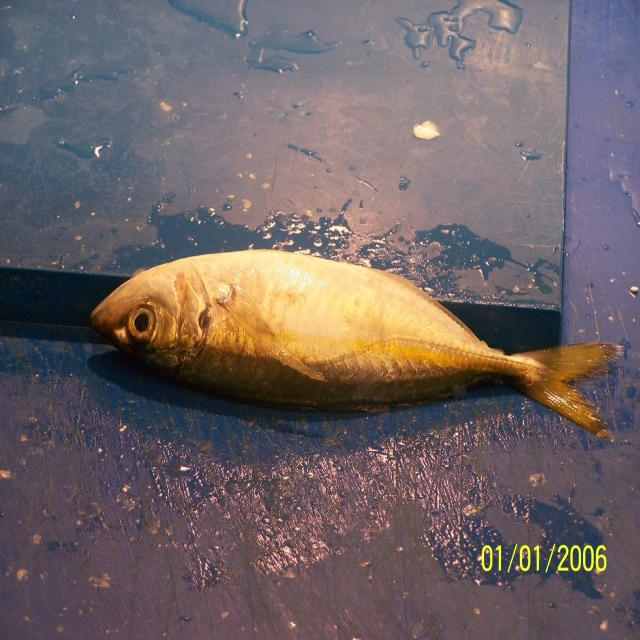Hourse-Mackerel-istavrit-: (88, 249, 621, 440)
